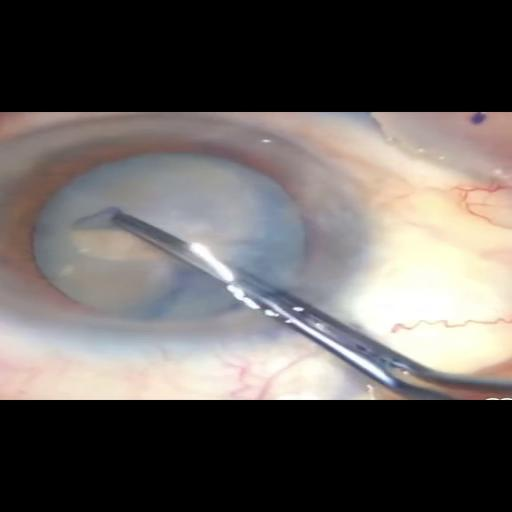catarata: (34, 152, 302, 316)
cornea: (0, 113, 393, 351)
pupil: (0, 135, 338, 331)
